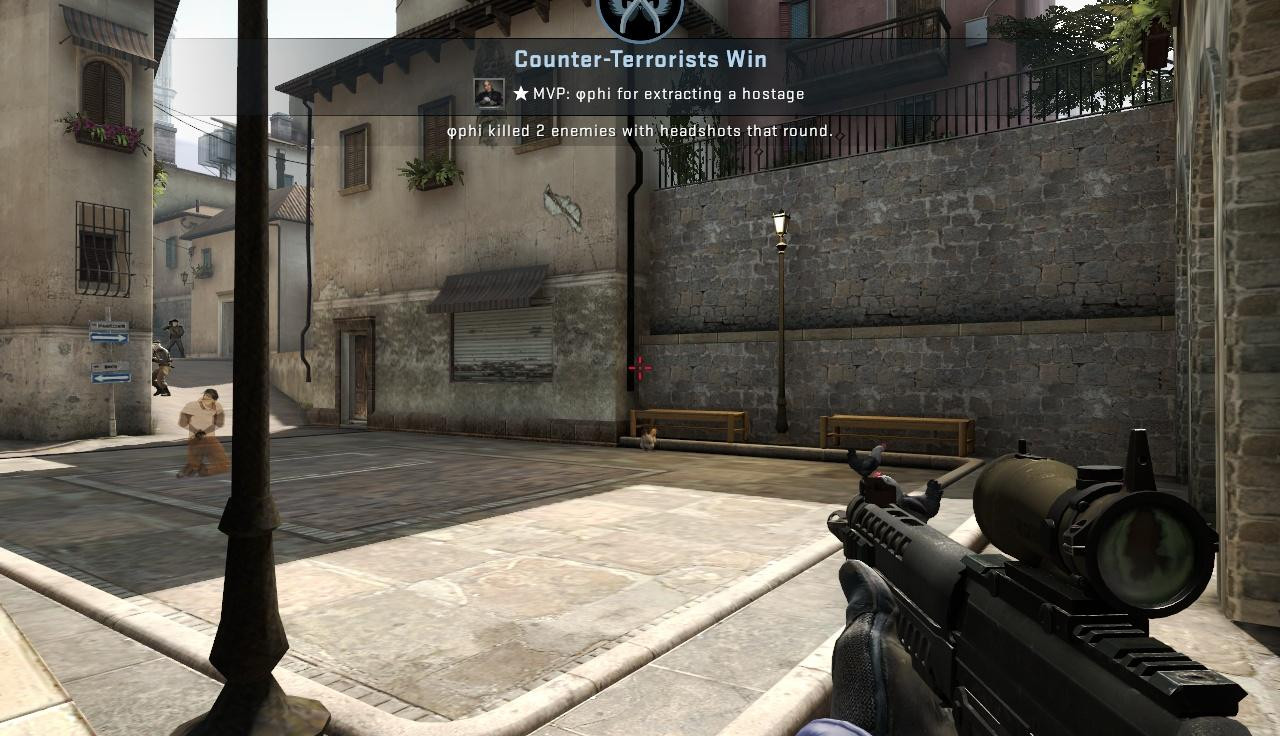rifle: (815, 443, 1253, 736)
tt: (152, 340, 170, 396), (170, 318, 184, 357)
tthead: (152, 340, 161, 350), (172, 319, 178, 327)
